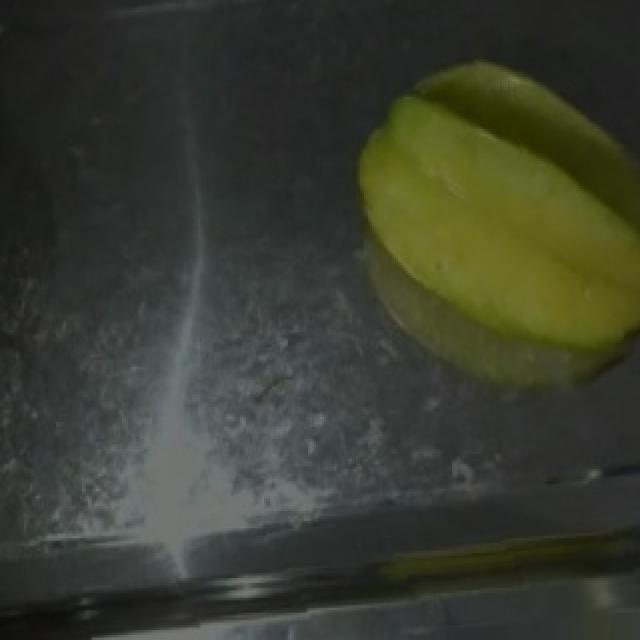fruit: (326, 44, 640, 412)
